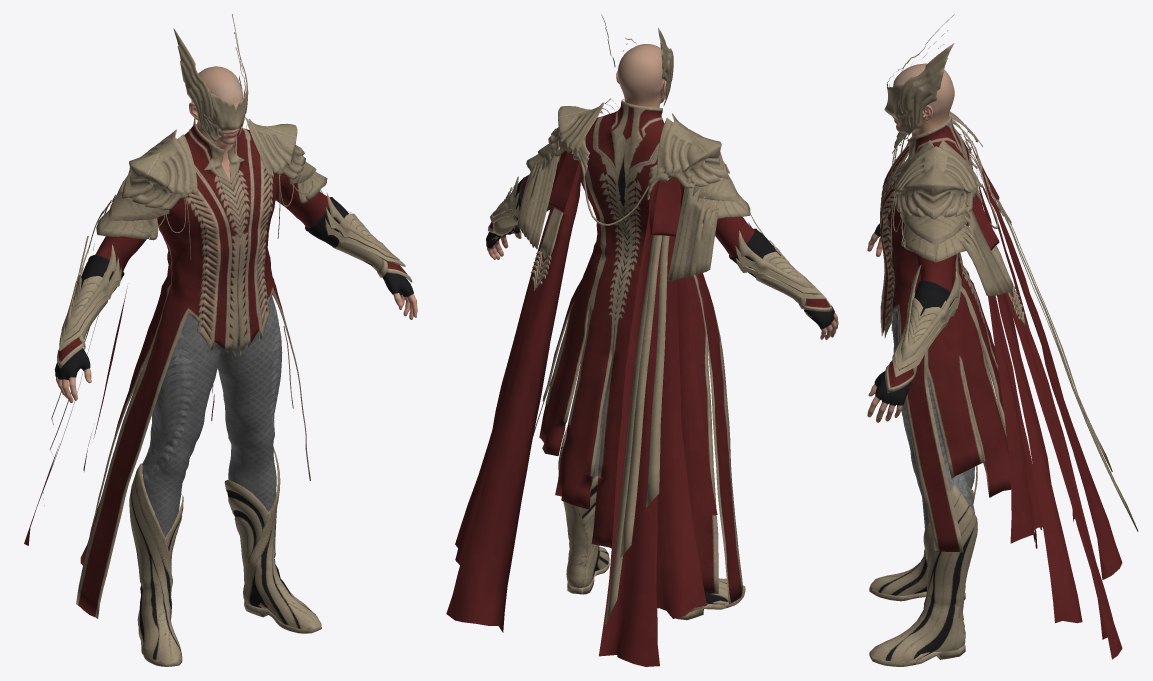
The picture shows the model from 3 angles, left to right: view 1: azimuth 30°, elevation 25°; view 2: azimuth 150°, elevation 25°; view 3: azimuth 270°, elevation 25°; orthographic projection. The views are drawn at different scales.
Visible parts, largest first — view 1: GM_0031_T05_Body, GM_0031_T05_Pants, GM_0031_T05_Boots, GM_0031_T05_Shoulder, GM_0031_T05_Glove, GM_0031_T05_Helmet, GM_BaseHead, GM_0031_T05_Cape; view 2: GM_0031_T05_Cape, GM_0031_T05_Body, GM_0031_T05_Shoulder, GM_0031_T05_Glove, GM_0031_T05_Boots, GM_BaseHead, GM_0031_T05_Helmet; view 3: GM_0031_T05_Body, GM_0031_T05_Cape, GM_0031_T05_Shoulder, GM_0031_T05_Boots, GM_0031_T05_Glove, GM_0031_T05_Helmet, GM_0031_T05_Pants, GM_BaseHead.
Boxes of the visible parts, x1=… form: GM_0031_T05_Body: x1=56, y1=118, x2=417, y2=618; GM_0031_T05_Pants: x1=142, y1=296, x2=282, y2=649; GM_0031_T05_Boots: x1=129, y1=449, x2=321, y2=666; GM_0031_T05_Shoulder: x1=88, y1=117, x2=327, y2=259; GM_0031_T05_Glove: x1=54, y1=190, x2=413, y2=380; GM_0031_T05_Helmet: x1=173, y1=14, x2=248, y2=142; GM_BaseHead: x1=189, y1=66, x2=243, y2=156; GM_0031_T05_Cape: x1=24, y1=286, x2=127, y2=545; GM_0031_T05_Cape: x1=446, y1=140, x2=717, y2=666; GM_0031_T05_Body: x1=487, y1=99, x2=838, y2=604; GM_0031_T05_Shoulder: x1=517, y1=98, x2=750, y2=281; GM_0031_T05_Glove: x1=486, y1=175, x2=834, y2=329; GM_0031_T05_Boots: x1=558, y1=426, x2=745, y2=620; GM_BaseHead: x1=616, y1=44, x2=666, y2=107; GM_0031_T05_Helmet: x1=601, y1=14, x2=673, y2=106; GM_0031_T05_Body: x1=867, y1=112, x2=1041, y2=552; GM_0031_T05_Cape: x1=953, y1=123, x2=1138, y2=659; GM_0031_T05_Shoulder: x1=891, y1=111, x2=1011, y2=296; GM_0031_T05_Boots: x1=869, y1=466, x2=977, y2=666; GM_0031_T05_Glove: x1=874, y1=223, x2=960, y2=405; GM_0031_T05_Helmet: x1=884, y1=14, x2=954, y2=135; GM_0031_T05_Pants: x1=891, y1=310, x2=974, y2=661; GM_BaseHead: x1=892, y1=63, x2=954, y2=138.
Bounding box in the file's own units: 1.24 × 2.02 × 0.8278.
10 materials, 9 textured.
